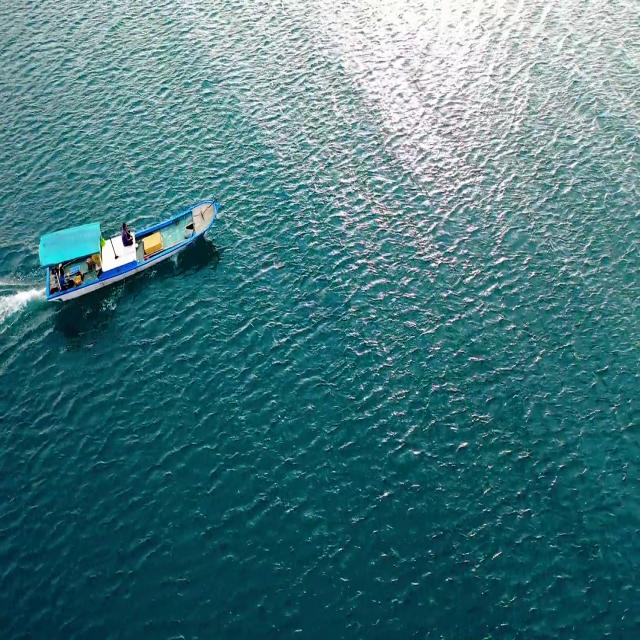ship: (39, 185, 223, 315)
